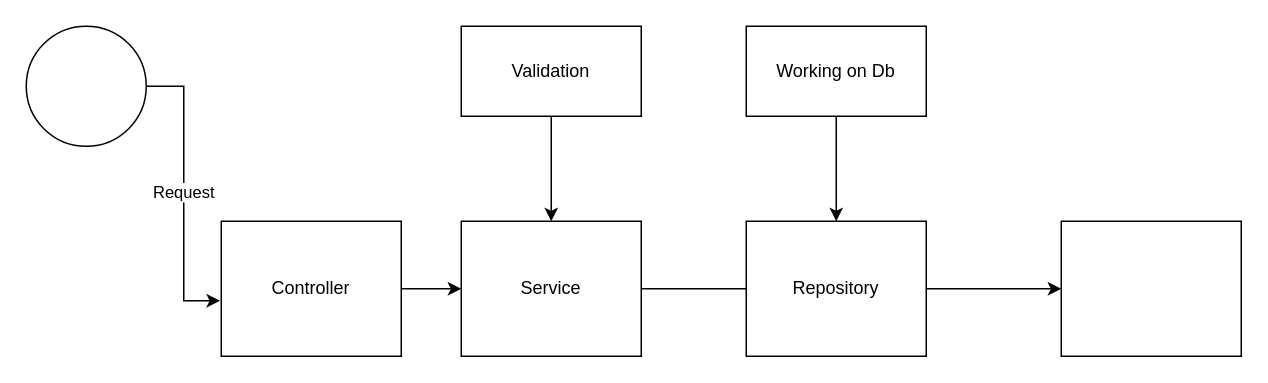
Image size: 1268x383. Some labels were removed from this diagram. The centre of each missing label's shape, as x and y in pixels:
"AppDb" goes at point 1150,288.
"User" goes at point 85,85.
